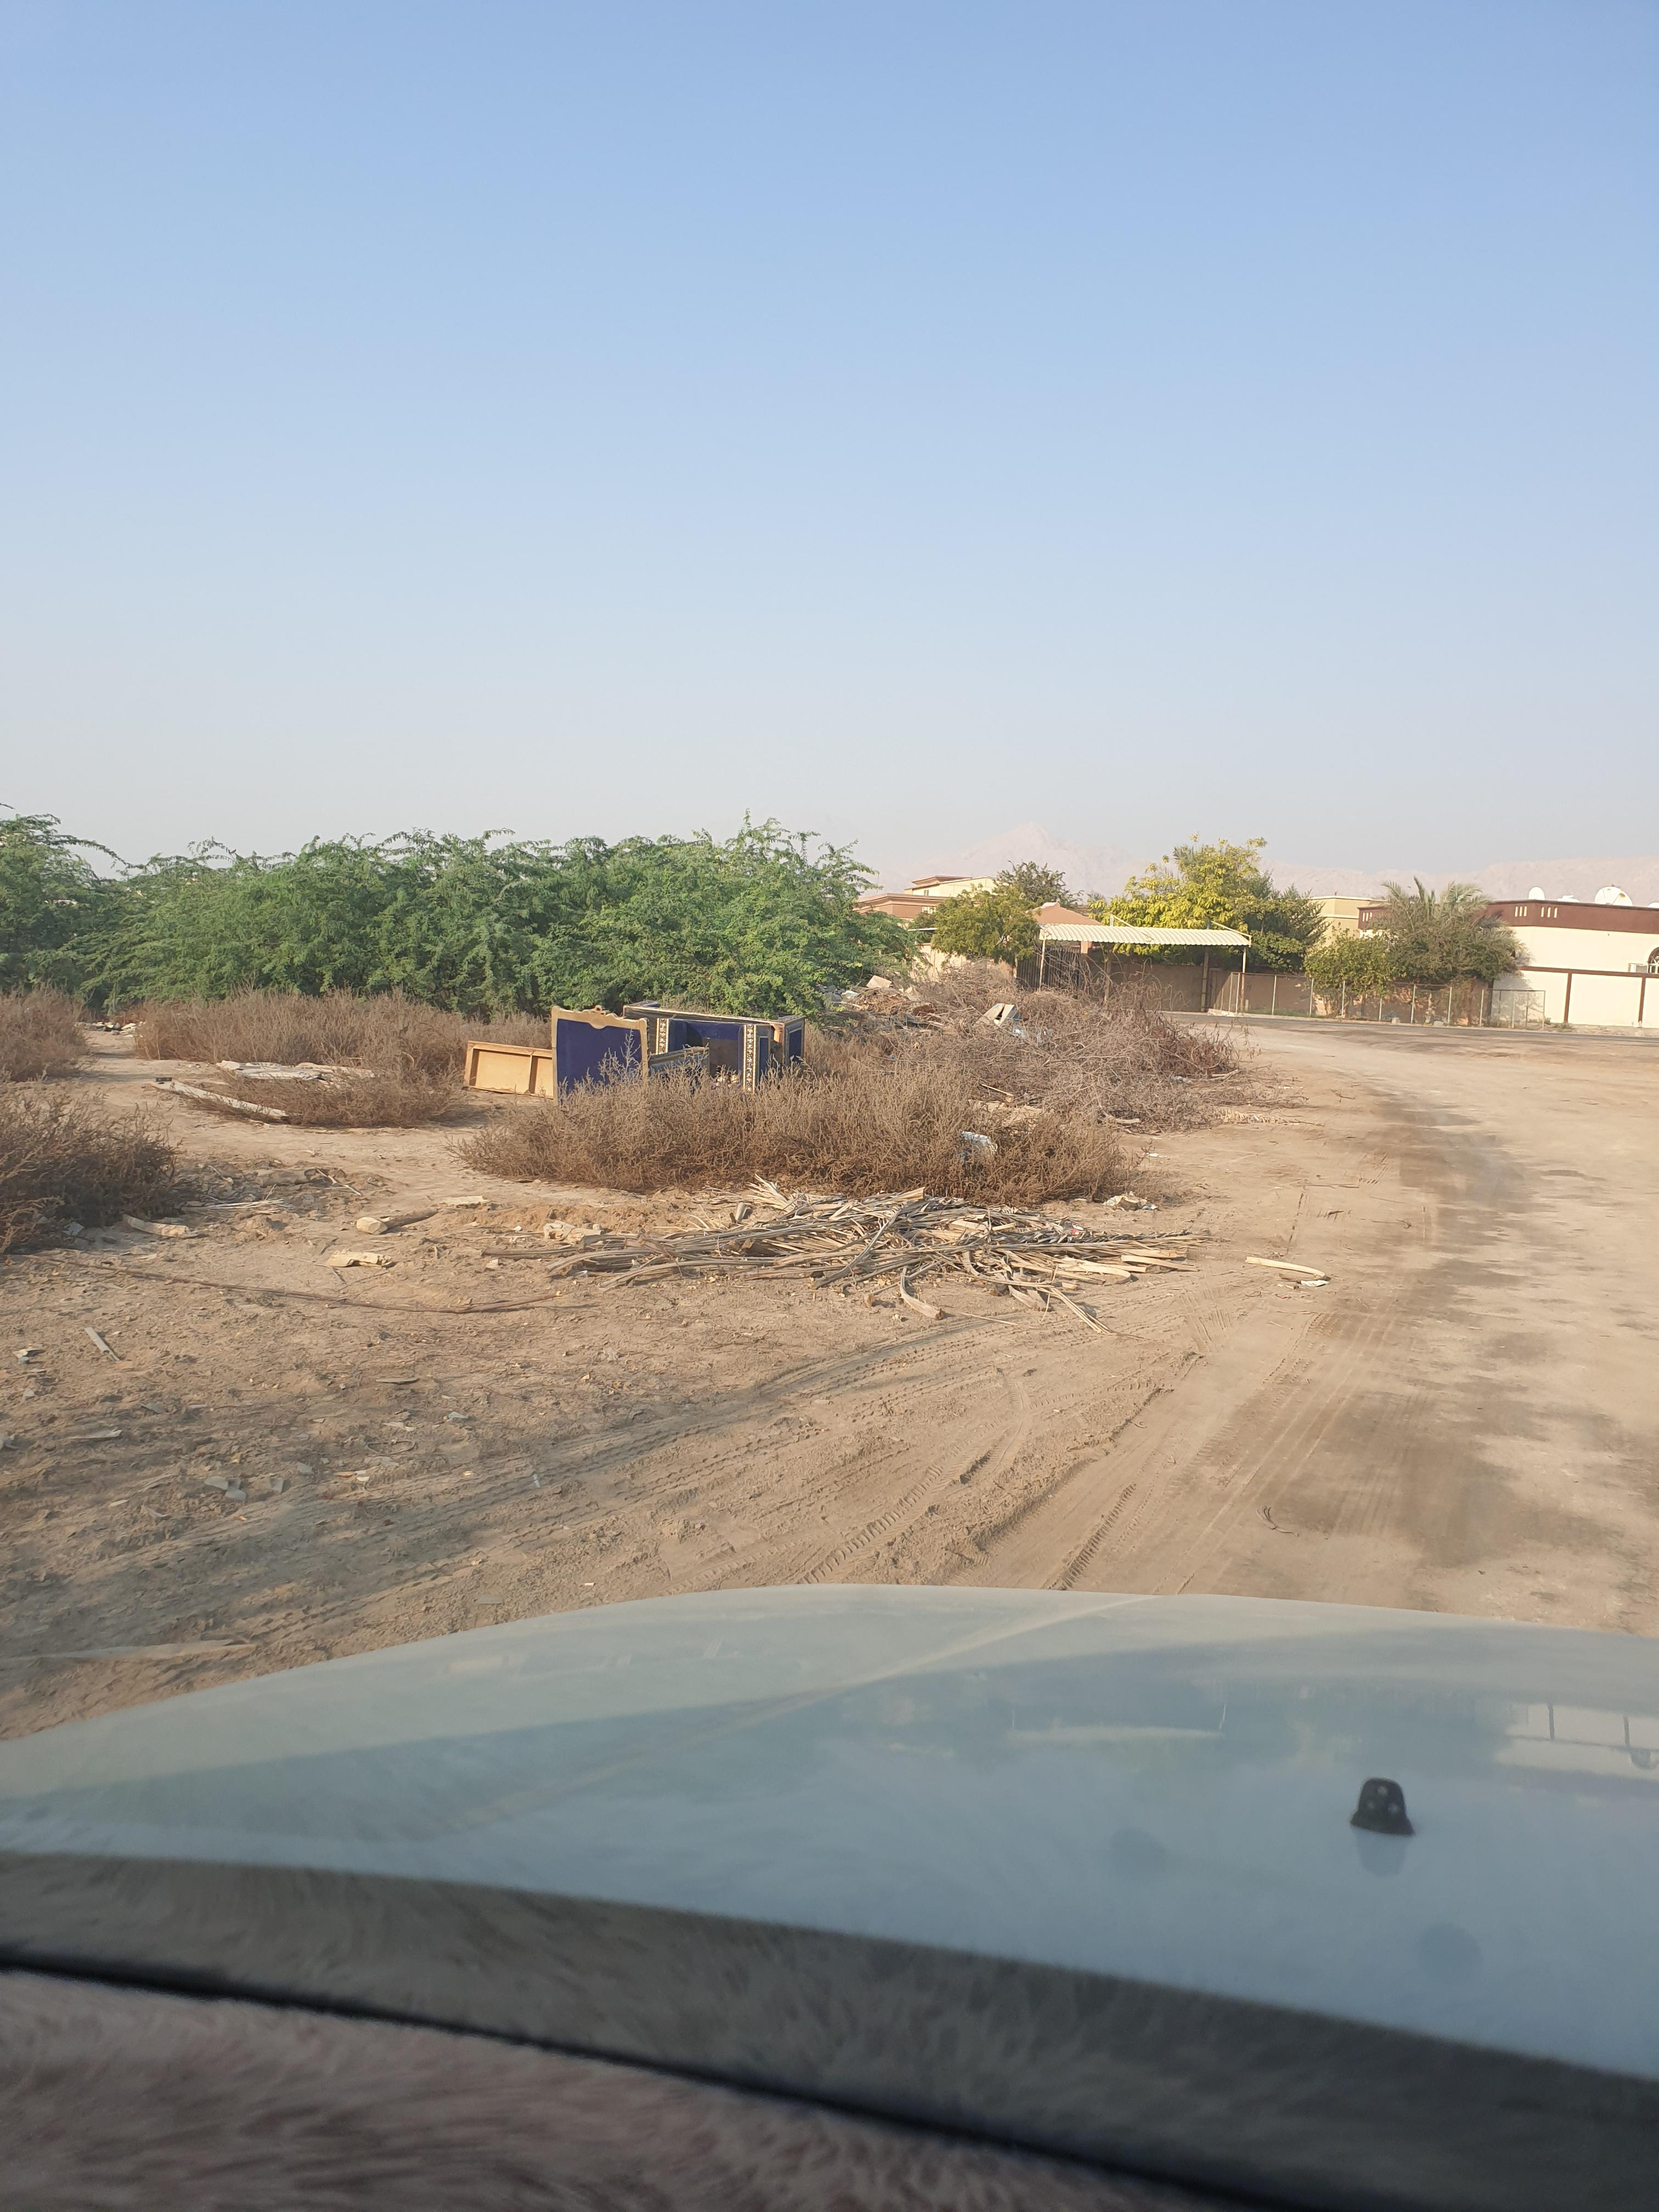fallen_trees: (617, 1195, 1194, 1355)
